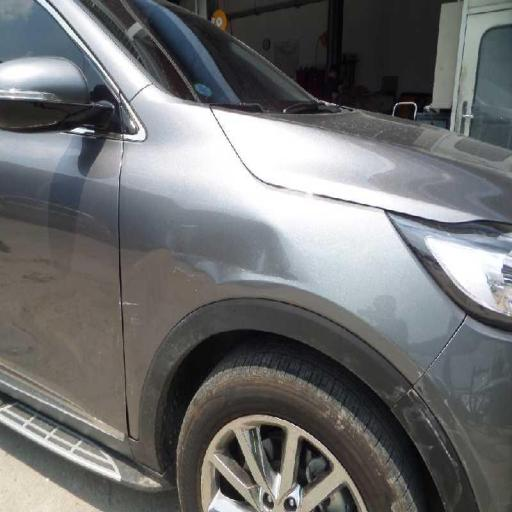scratch: (156, 151, 326, 315)
